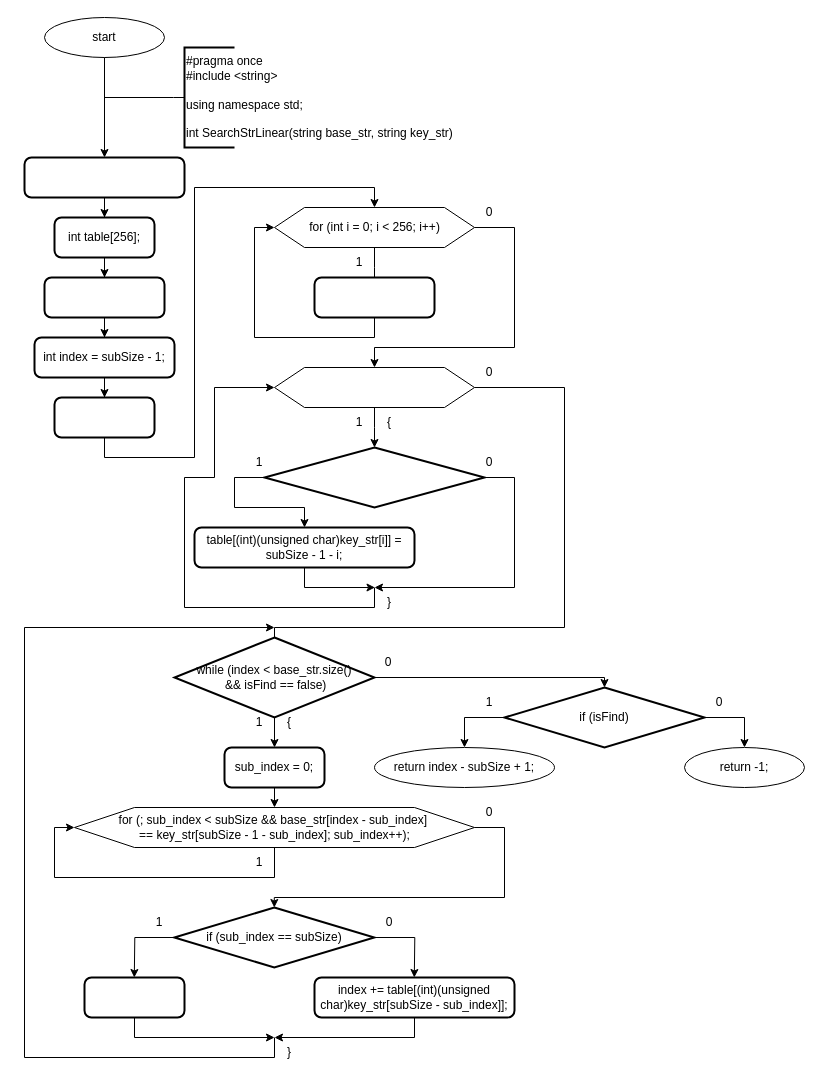
Some shapes in this 822 by 1085 pixel diagram are drawn without their labels. Each missing label, with the centre of its shape:
"bool isFind = false;" belongs at point (104, 297).
"for (int i = subSize - 2; i > -1; i--)" belongs at point (374, 387).
"if (table[(int)(unsigned char)key_str[i]] == subSize)" belongs at point (374, 477).
"int sub_index;" belongs at point (104, 417).
"int subSize = key_str.size();" belongs at point (104, 177).
"isFind = true;" belongs at point (134, 997).
"table[i] = subSize;" belongs at point (374, 297).
